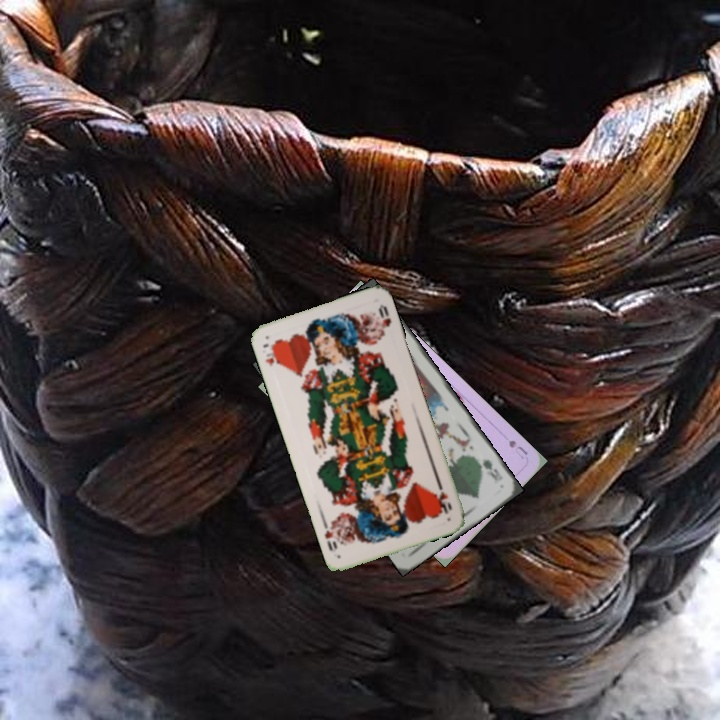GK: (472, 454, 505, 484)
HO: (434, 478, 454, 516), (259, 340, 283, 369)
SU: (505, 436, 531, 462)
